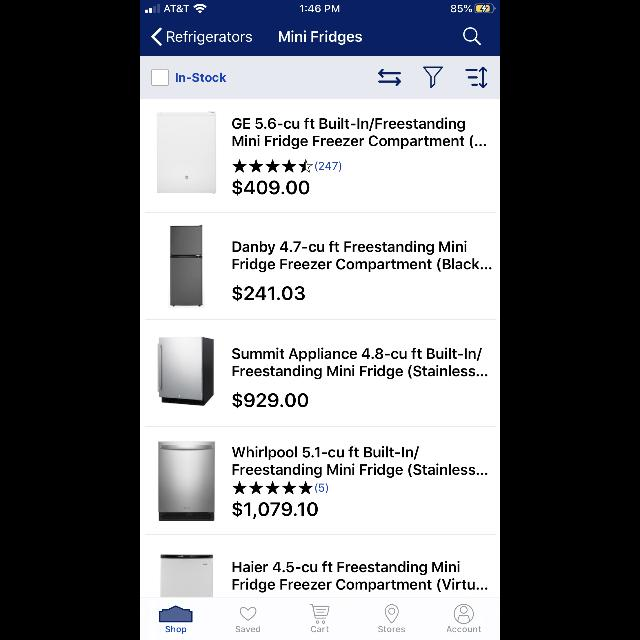checkbox: (152, 69, 226, 87)
icon: (233, 160, 313, 172), (233, 482, 313, 494), (466, 66, 488, 88), (310, 604, 330, 624), (454, 604, 474, 624), (379, 70, 401, 86), (464, 28, 481, 46), (386, 604, 398, 624), (240, 608, 256, 620), (152, 28, 162, 46)
image: (158, 112, 216, 194), (159, 442, 215, 520), (158, 337, 214, 405), (171, 226, 203, 306), (161, 555, 213, 597), (160, 606, 192, 622), (423, 67, 443, 89)
text: (232, 447, 488, 478), (233, 242, 491, 272), (232, 118, 486, 148), (233, 348, 487, 378), (233, 562, 487, 592), (232, 502, 318, 518), (232, 180, 310, 196), (234, 392, 308, 408), (278, 31, 362, 45), (168, 31, 252, 45), (233, 286, 305, 302), (176, 74, 226, 82), (315, 162, 341, 172), (447, 626, 481, 632), (166, 626, 187, 634), (379, 626, 405, 632), (236, 626, 260, 632), (316, 483, 328, 493), (312, 626, 328, 632)
uppertaskbar: (140, 0, 500, 14)
